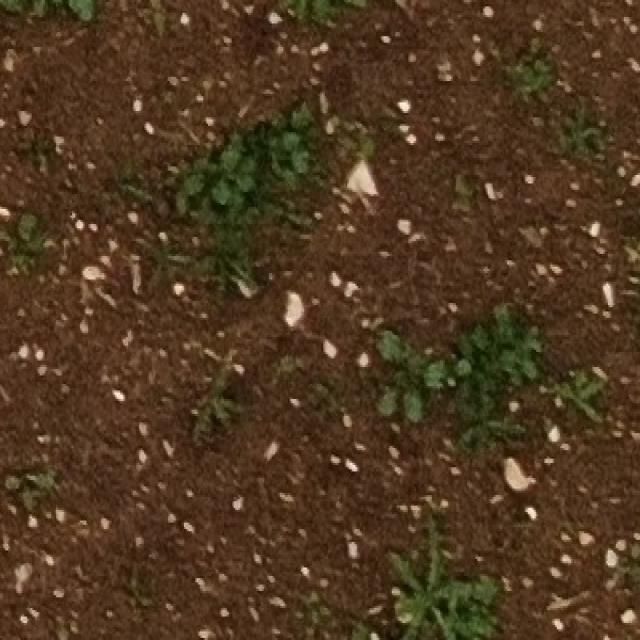cirse: (401, 519, 489, 640), (374, 535, 467, 640), (400, 542, 493, 640), (474, 374, 546, 457), (188, 341, 250, 434), (194, 352, 258, 441), (463, 410, 532, 490), (182, 354, 243, 444), (473, 405, 543, 483), (131, 216, 192, 293), (139, 233, 204, 305), (141, 239, 200, 313), (531, 356, 586, 431), (535, 379, 592, 451), (560, 352, 615, 422), (552, 103, 594, 163), (591, 104, 631, 166), (535, 107, 577, 166), (530, 57, 569, 110), (491, 60, 532, 109), (524, 54, 564, 103)
